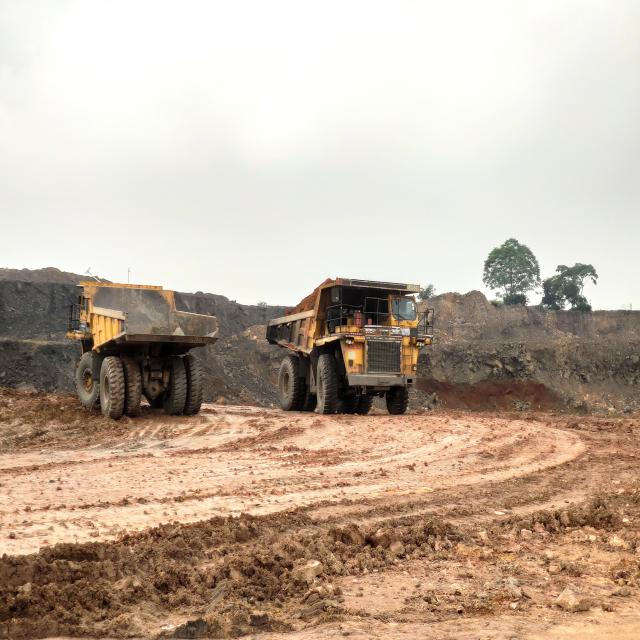dump_truck: (67, 282, 220, 421), (265, 278, 413, 416)
